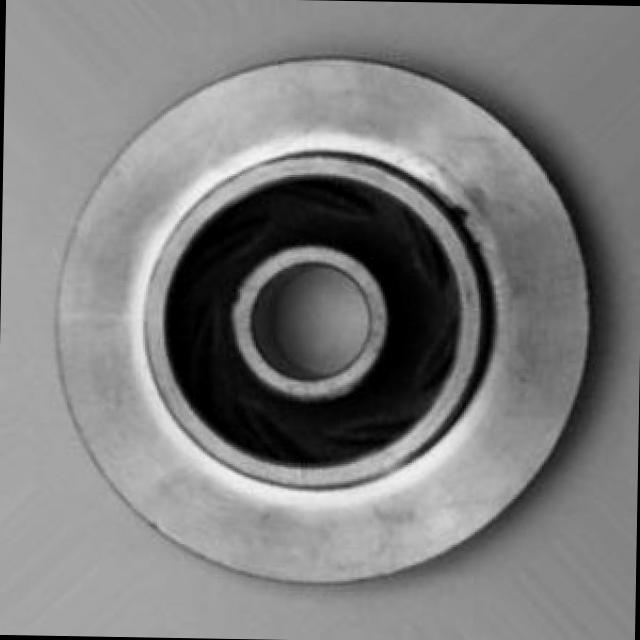Defect: (446, 193, 478, 230)
